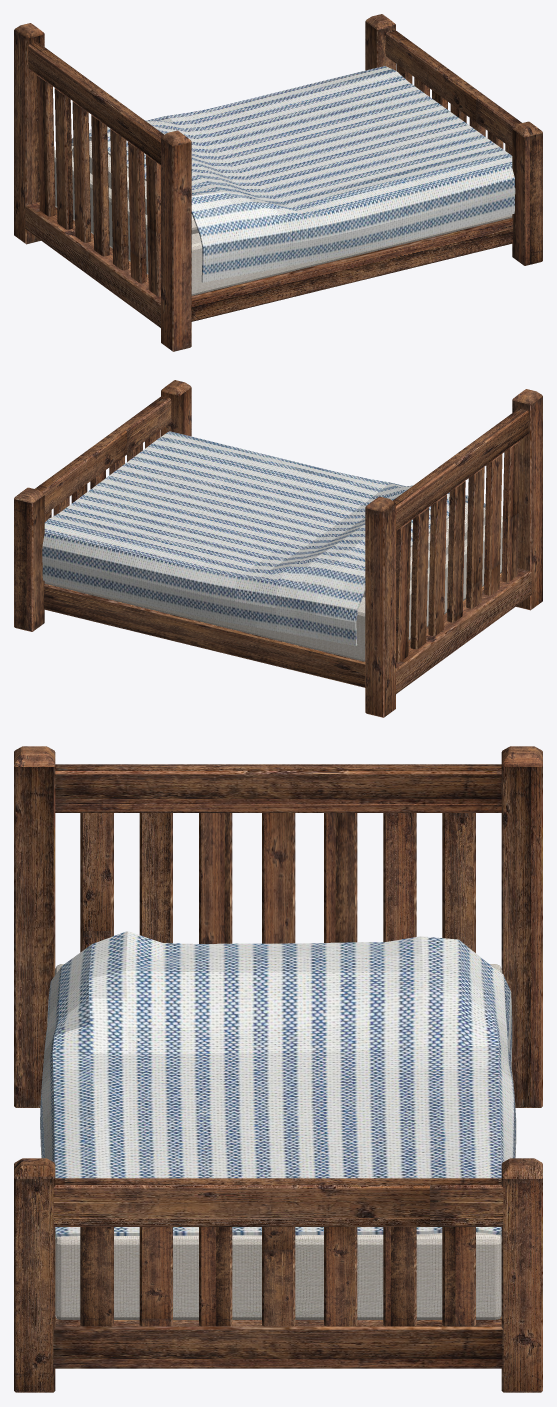
Rendered from double_bed.fbx.
3 views of the same model, one above another, from view 1: azimuth 30°, elevation 25°; view 2: azimuth 150°, elevation 25°; view 3: azimuth 270°, elevation 25° (orthographic). The views are drawn at different scales.
Visible parts, largest first — view 1: Plane.003; view 2: Plane.003; view 3: Plane.003.
Part boxes in pixels (<box>): Plane.003: <box>14,14,542,351</box>; Plane.003: <box>14,380,542,717</box>; Plane.003: <box>14,746,542,1392</box>.
Size of the model in its own units: 211 by 115 by 157.
